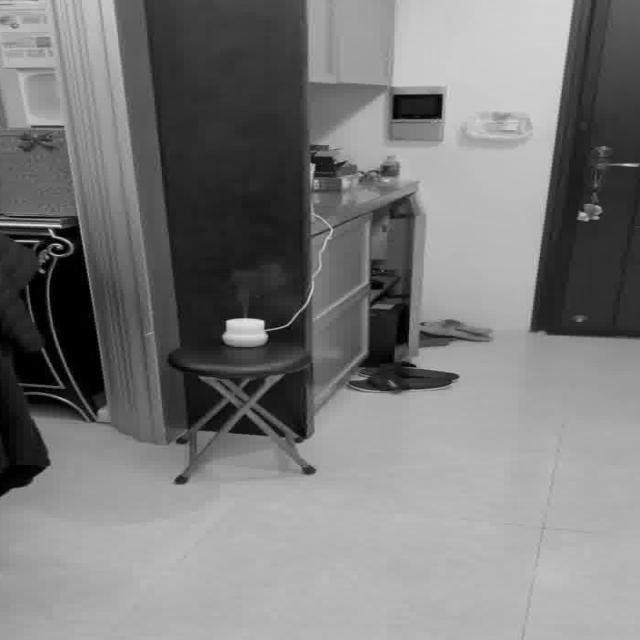fire: (224, 260, 290, 310)
